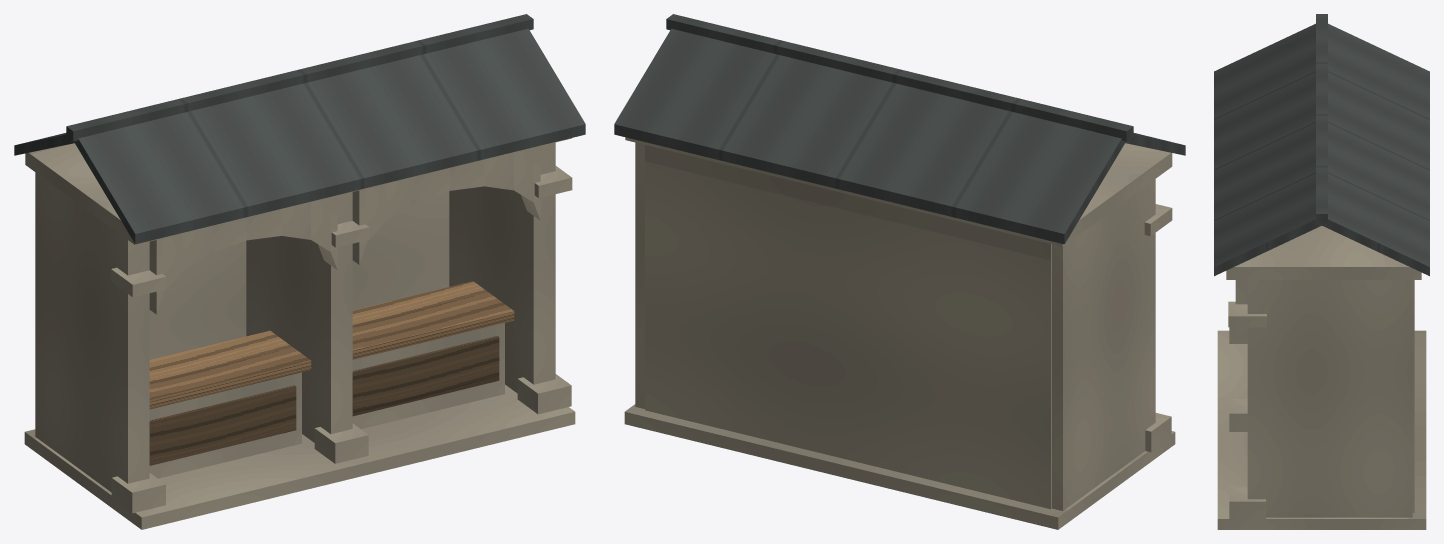
3 views of the same model, side by side, from view 1: azimuth 30°, elevation 25°; view 2: azimuth 150°, elevation 25°; view 3: azimuth 270°, elevation 25° (orthographic). The views are drawn at different scales.
Visible parts, largest first — view 1: nassau; view 2: nassau; view 3: nassau.
Boxes of the visible parts, box(x1,y1,x2,y2) form: nassau: box(14, 14, 585, 529); nassau: box(614, 14, 1185, 529); nassau: box(1214, 14, 1429, 529).
Size of the model in its own units: 3.33 by 2.5 by 1.52.
1 material, 1 textured.
